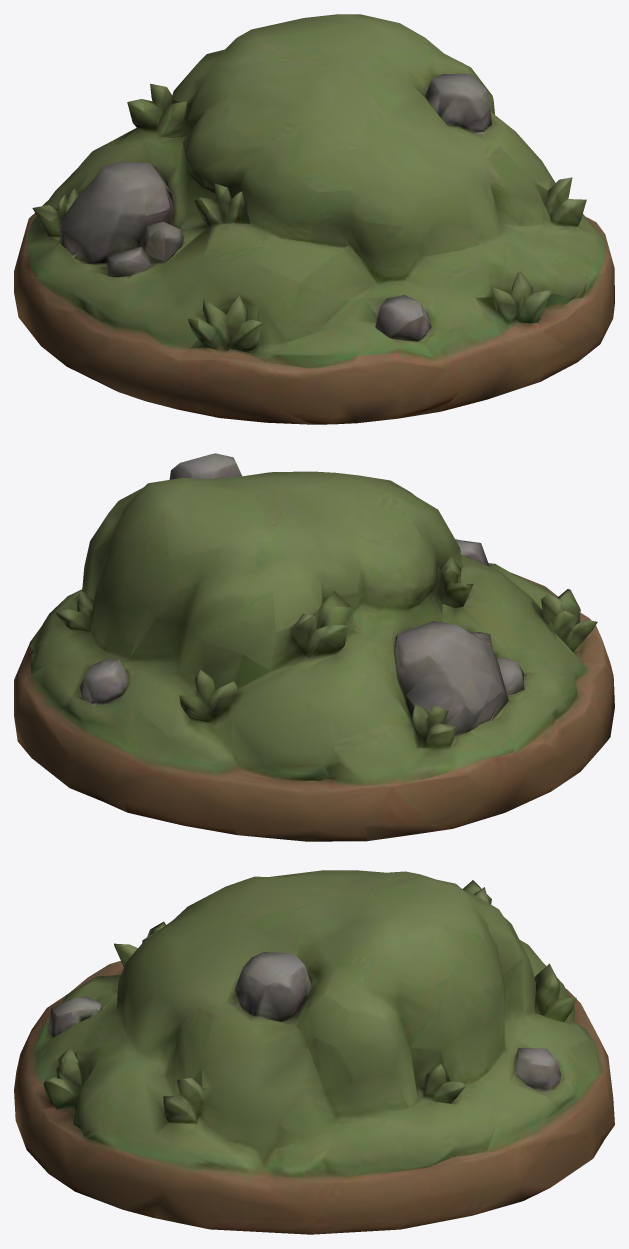
The model's file is hill.glb.
3 views of the same model, one above another, from view 1: azimuth 30°, elevation 25°; view 2: azimuth 150°, elevation 25°; view 3: azimuth 270°, elevation 25° (orthographic). The views are drawn at different scales.
Visible parts, largest first — view 1: tripo_node_9a471b9e-f35e-4810-8dc6-20f0bbf13fc0; view 2: tripo_node_9a471b9e-f35e-4810-8dc6-20f0bbf13fc0; view 3: tripo_node_9a471b9e-f35e-4810-8dc6-20f0bbf13fc0.
Boxes of the visible parts, x1,y1,x2,y2 form: tripo_node_9a471b9e-f35e-4810-8dc6-20f0bbf13fc0: [14, 14, 614, 424]; tripo_node_9a471b9e-f35e-4810-8dc6-20f0bbf13fc0: [14, 453, 614, 841]; tripo_node_9a471b9e-f35e-4810-8dc6-20f0bbf13fc0: [14, 870, 614, 1234].
Size of the model in its own units: 0.9796 by 0.4196 by 0.9772.
Materials: 1 (1 with a texture image).
